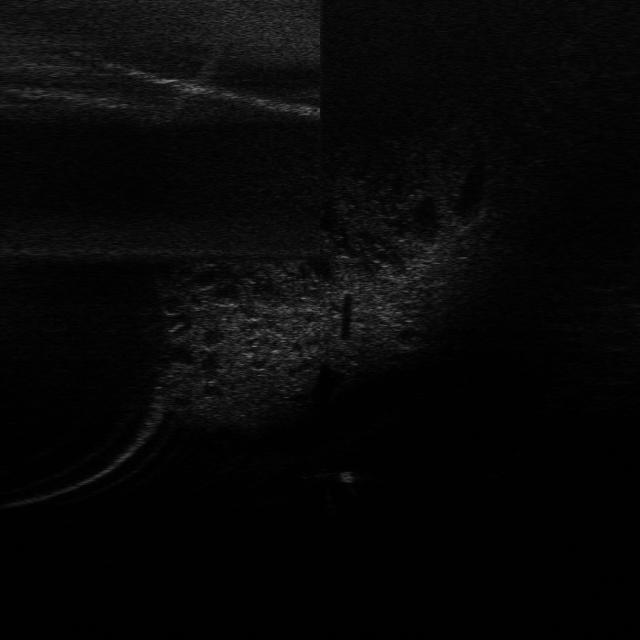cube: (303, 455, 341, 479)
cylinder: (338, 469, 356, 486)
